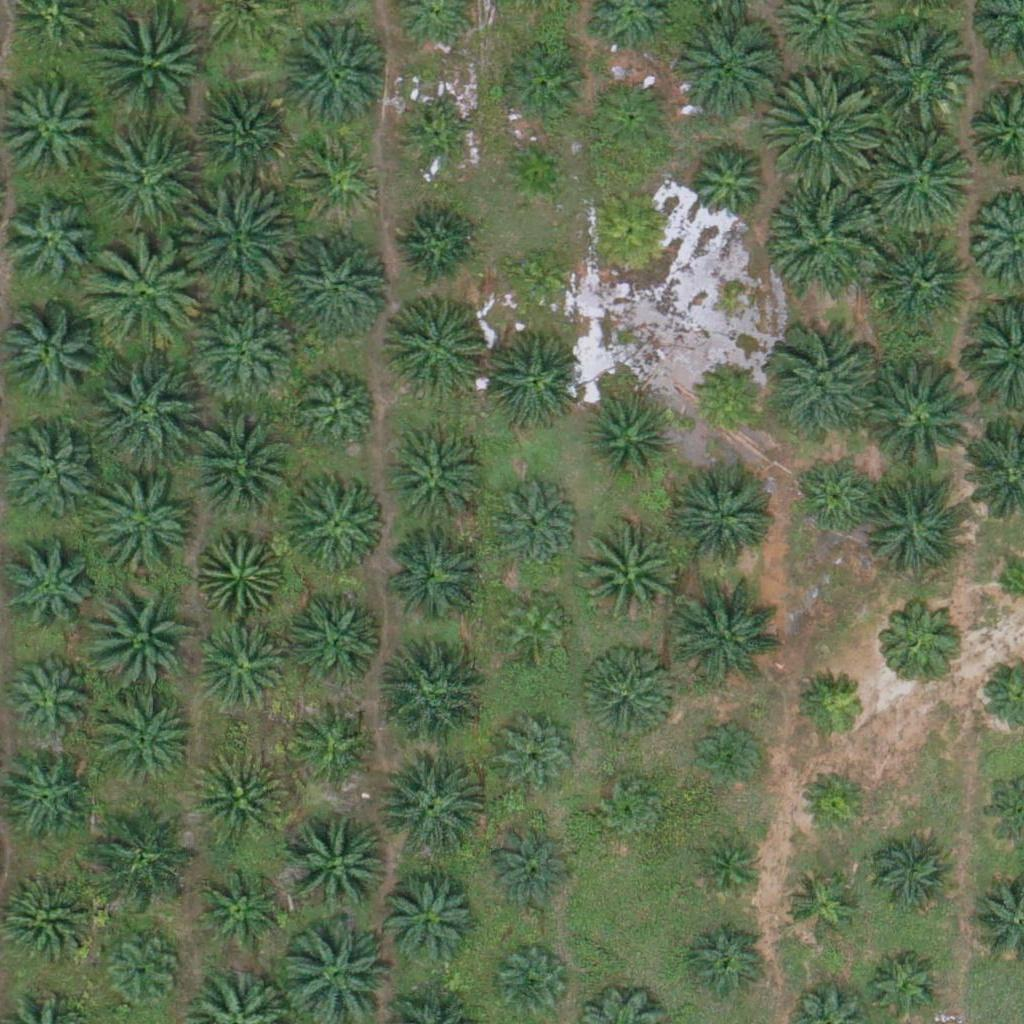Kelapa_Sawit: (85, 124, 198, 238), (90, 796, 203, 909), (90, 471, 203, 584), (89, 355, 202, 468), (771, 181, 884, 294), (768, 329, 881, 442), (861, 17, 974, 130), (190, 292, 302, 406), (285, 809, 397, 923), (860, 359, 972, 473), (864, 118, 976, 232), (766, 70, 878, 184), (89, 685, 201, 798), (84, 575, 196, 688), (87, 238, 199, 351), (177, 186, 289, 299), (182, 407, 294, 520), (280, 227, 392, 340), (371, 638, 483, 751), (372, 752, 484, 865), (673, 578, 785, 691), (865, 469, 977, 582), (279, 17, 391, 130), (670, 9, 782, 122), (379, 874, 479, 975), (2, 192, 102, 293), (188, 749, 288, 850), (287, 593, 387, 694), (286, 469, 386, 570), (388, 433, 488, 534), (386, 524, 486, 625), (479, 331, 579, 432), (578, 524, 678, 625), (675, 463, 775, 564), (192, 87, 292, 187), (385, 295, 485, 395), (579, 643, 679, 743), (875, 229, 975, 329), (586, 185, 674, 274), (683, 922, 771, 1010), (101, 927, 189, 1015), (792, 455, 880, 543), (586, 72, 674, 160), (199, 619, 287, 707), (195, 870, 283, 958), (293, 694, 381, 782), (486, 827, 574, 915), (493, 709, 581, 797), (877, 592, 965, 680), (871, 831, 959, 919), (294, 135, 381, 223), (5, 652, 92, 740), (197, 527, 284, 615), (298, 369, 385, 457), (393, 199, 480, 287), (491, 476, 578, 564), (585, 396, 672, 484), (682, 140, 769, 228), (497, 42, 584, 130), (689, 357, 764, 433), (692, 719, 767, 795), (690, 831, 765, 907), (497, 134, 572, 210), (501, 242, 576, 318), (403, 105, 478, 180), (797, 669, 872, 744), (498, 590, 573, 665), (782, 869, 857, 944), (596, 774, 671, 849), (797, 765, 872, 840)
